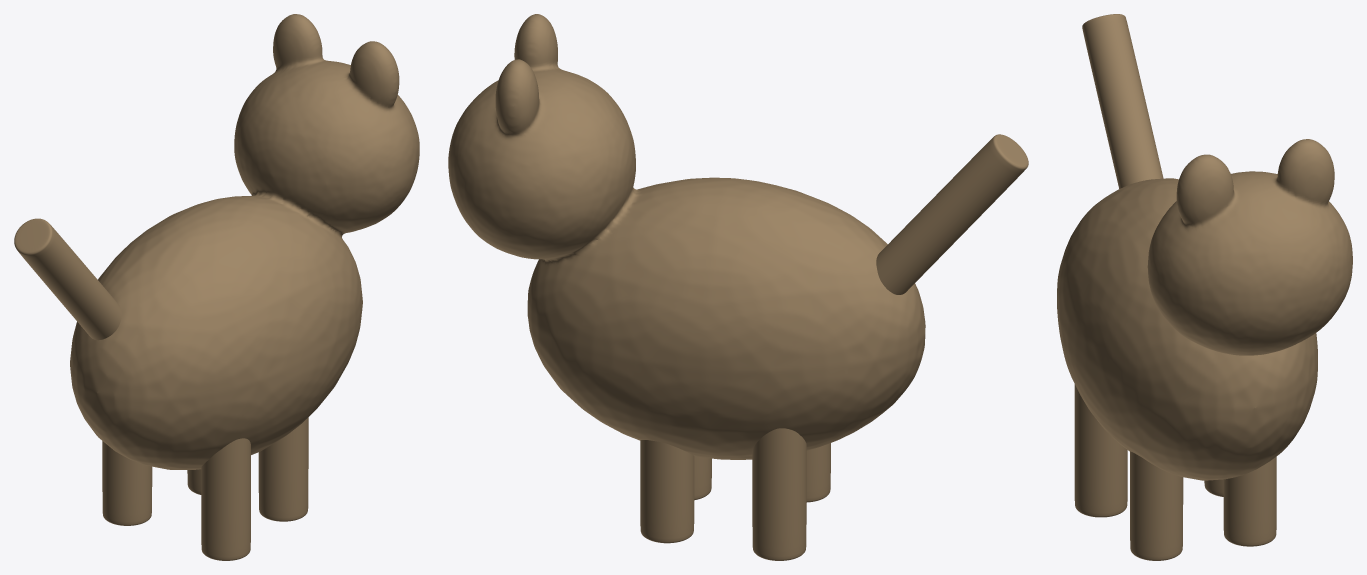
Rendered from Cat.fbx.
The picture shows the model from 3 angles, left to right: view 1: azimuth 30°, elevation 25°; view 2: azimuth 150°, elevation 25°; view 3: azimuth 270°, elevation 25°; orthographic projection. The views are drawn at different scales.
Parts seen in each view (by area): view 1: CatBody, CatTail, CatLeg3, CatLeg1, CatLeg4; view 2: CatBody, CatTail, CatLeg4, CatLeg2, CatLeg3, CatLeg1; view 3: CatBody, CatTail, CatLeg3, CatLeg1, CatLeg2.
Part boxes in pixels (<box>): CatBody: <box>70,14,419,469</box>; CatTail: <box>14,218,121,340</box>; CatLeg3: <box>201,438,250,560</box>; CatLeg1: <box>258,417,308,521</box>; CatLeg4: <box>102,441,152,525</box>; CatBody: <box>448,14,925,459</box>; CatTail: <box>876,134,1028,294</box>; CatLeg4: <box>752,428,806,560</box>; CatLeg2: <box>640,440,694,543</box>; CatLeg3: <box>806,443,830,502</box>; CatLeg1: <box>694,456,711,500</box>; CatBody: <box>1057,139,1352,480</box>; CatTail: <box>1082,14,1163,188</box>; CatLeg3: <box>1074,384,1127,517</box>; CatLeg1: <box>1130,451,1183,560</box>; CatLeg2: <box>1223,456,1276,546</box>.
Bounding box in the file's own units: 72.88 × 65.51 × 38.64.
